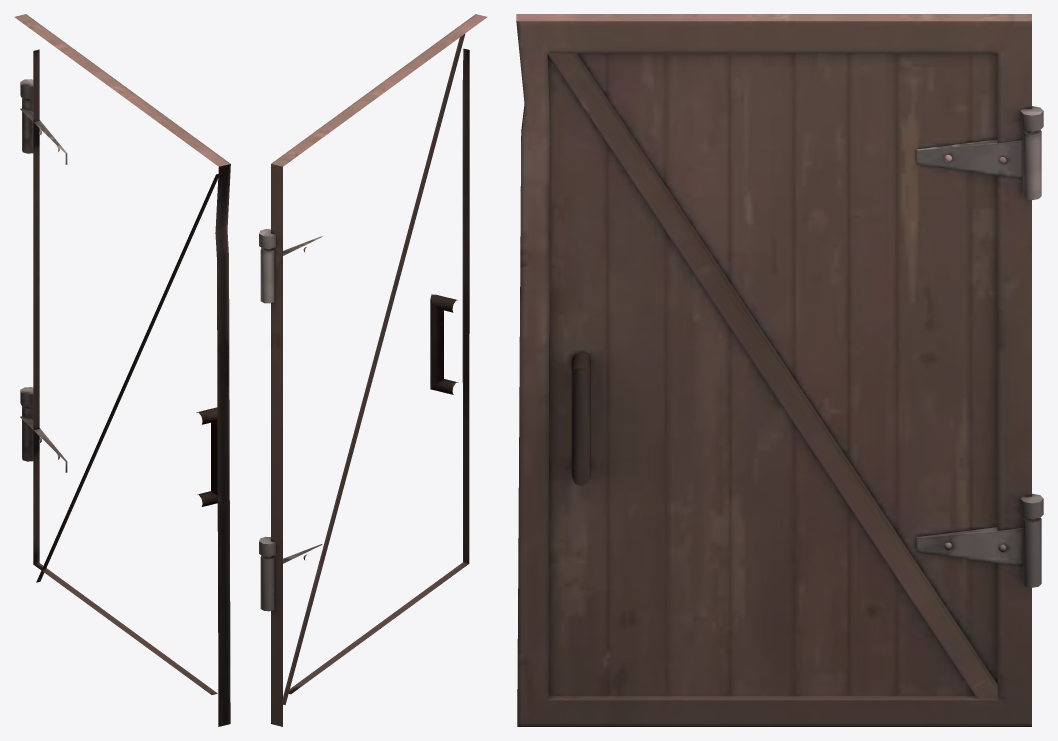
The picture shows the model from 3 angles, left to right: view 1: azimuth 30°, elevation 25°; view 2: azimuth 150°, elevation 25°; view 3: azimuth 270°, elevation 25°; orthographic projection. The views are drawn at different scales.
Parts seen in each view (by area): view 1: body0_model0_lod0_mesh0; view 2: body0_model0_lod0_mesh0; view 3: body0_model0_lod0_mesh0.
Part boxes in pixels (<box>): body0_model0_lod0_mesh0: <box>14,14,230,726</box>; body0_model0_lod0_mesh0: <box>259,14,487,726</box>; body0_model0_lod0_mesh0: <box>516,14,1043,726</box>.
Size of the model in its own units: 7.07 by 124 by 83.99.
Materials: 1 (1 with a texture image).
